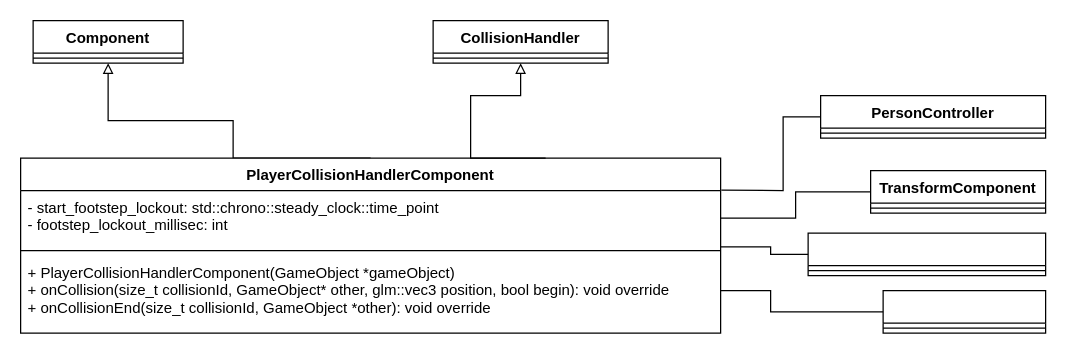
This 1066x354 diagram has some shape labels left out. The centre of each missing label's shape, as x and y in pixels:
"SourceManager" belongs at (x=964, y=311).
"WorldObjectComponent" belongs at (x=926, y=254).
